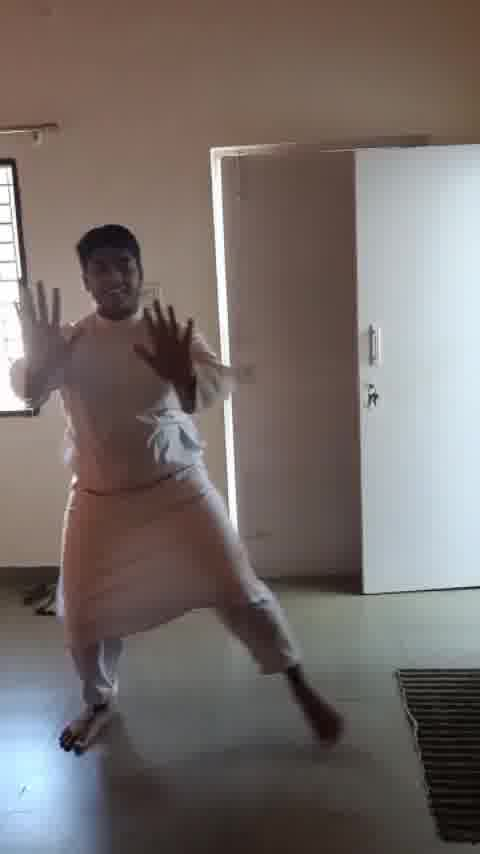duck: (14, 216, 357, 767)
